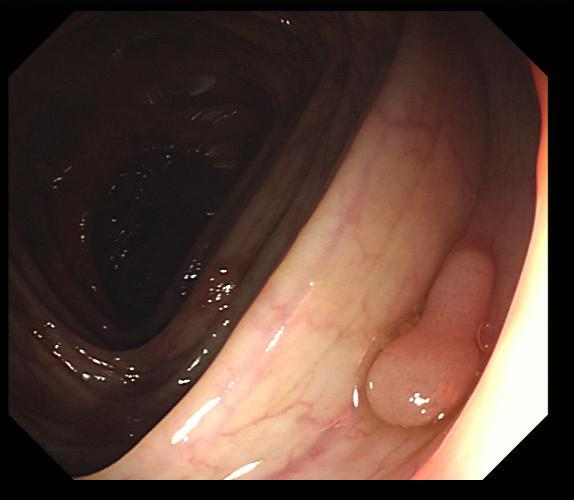polyp: (364, 243, 496, 428)
